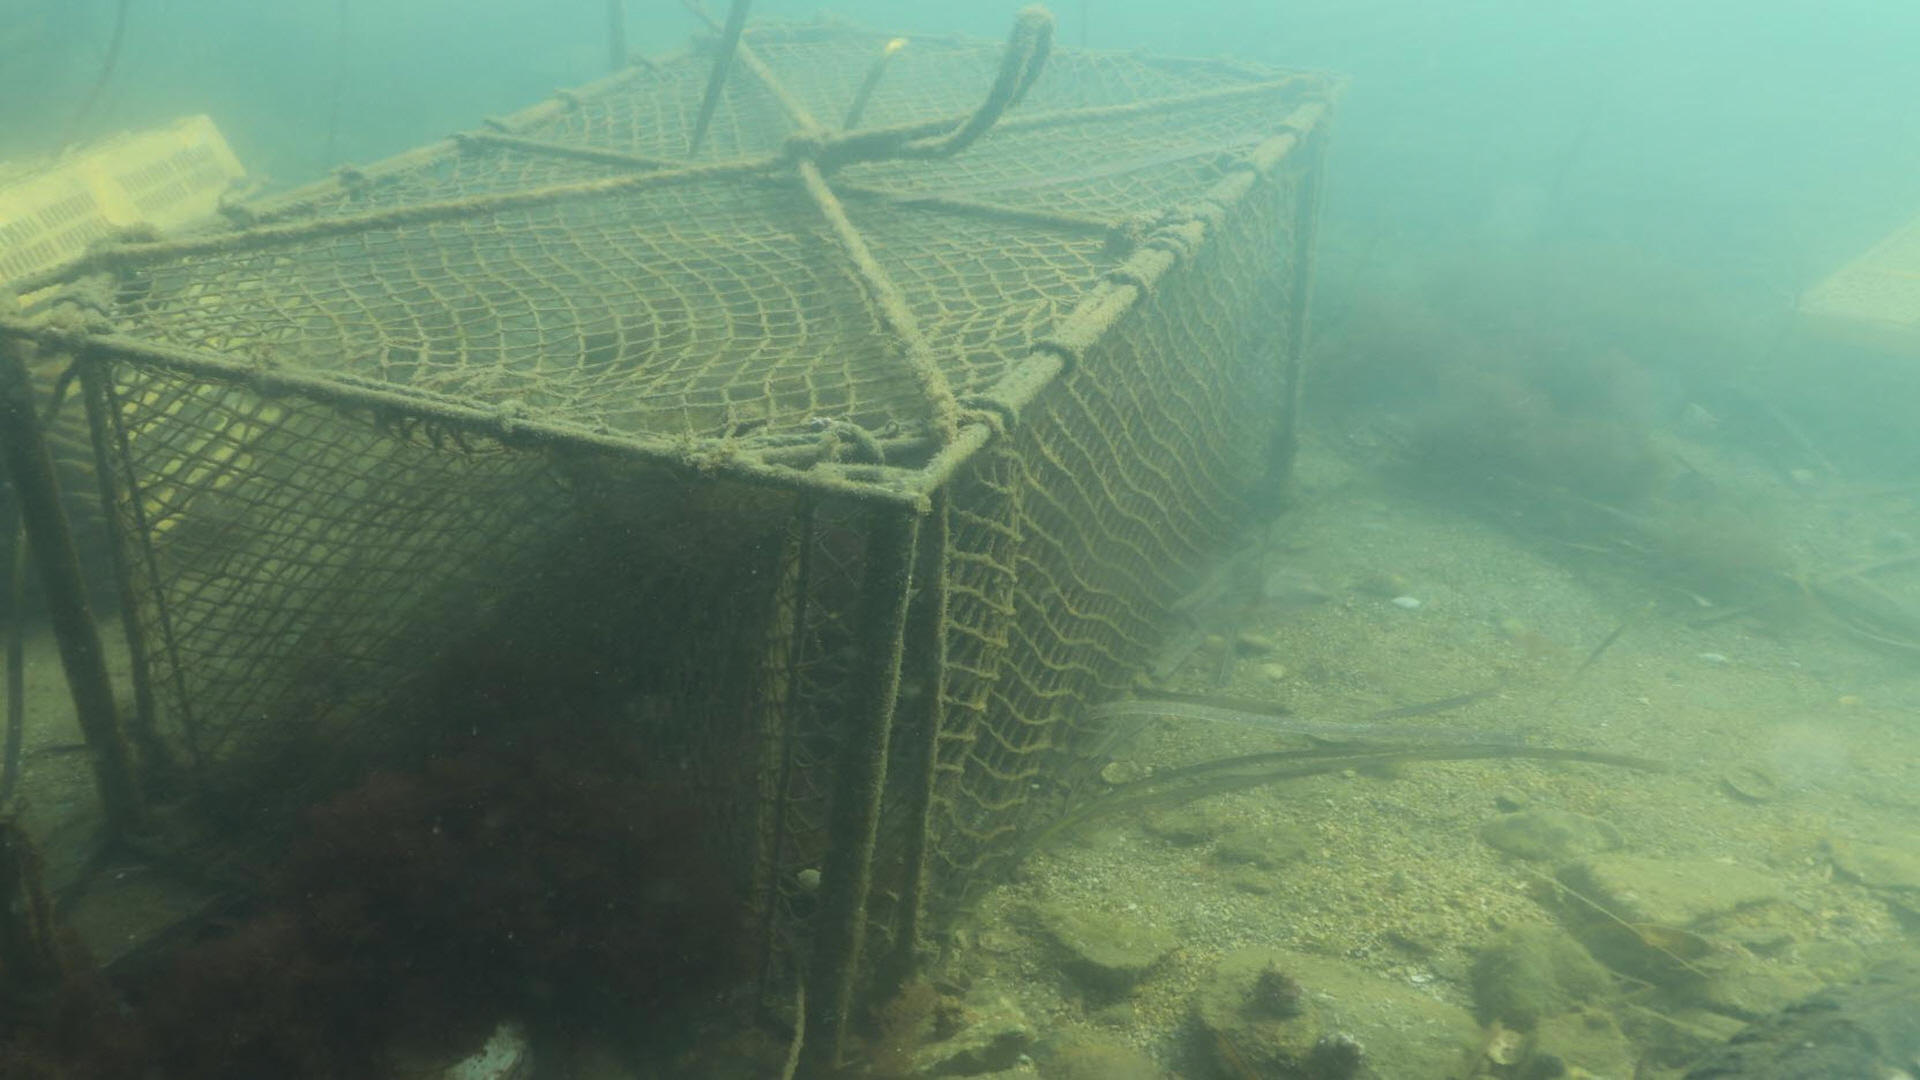bundle of ropes: (778, 5, 1055, 178)
rectangular fish trap: (0, 13, 1357, 1080)
